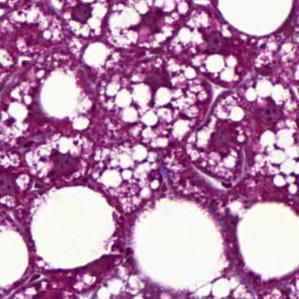steatosis: (129, 202, 228, 288), (30, 188, 119, 271)
